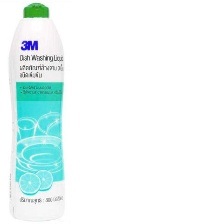cleaning_solution: (5, 0, 66, 224)
